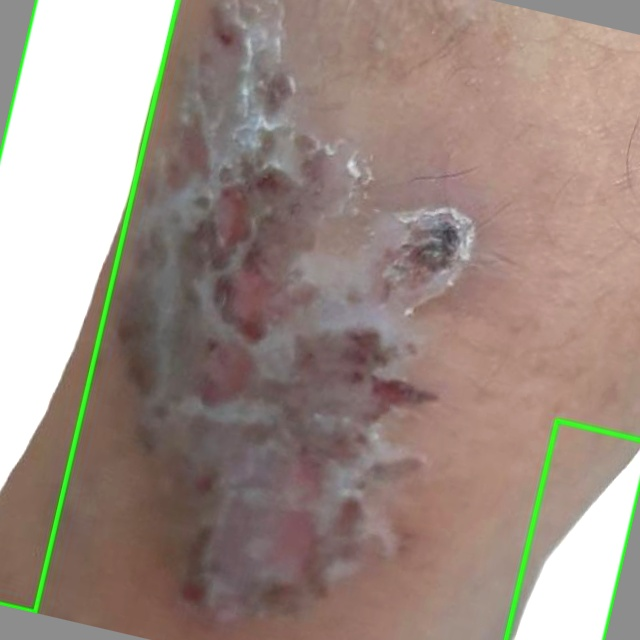Contact Dermatitis: (0, 0, 177, 611), (505, 420, 639, 639)
